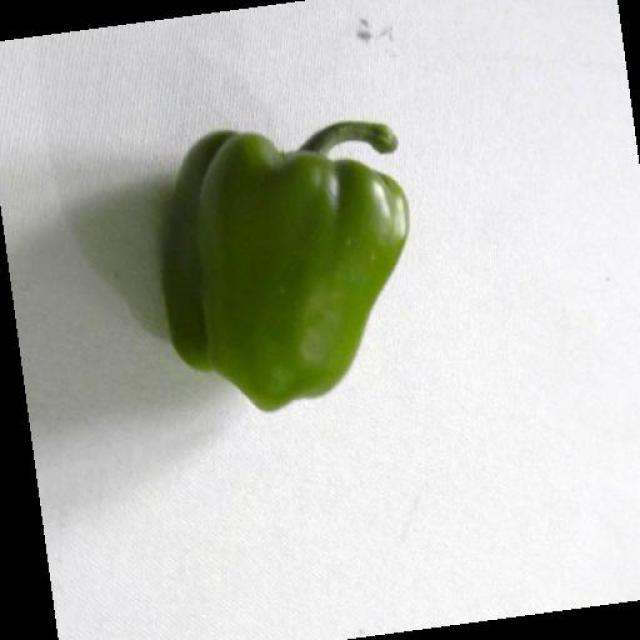Fresh_Capsicum: (188, 109, 416, 394)
